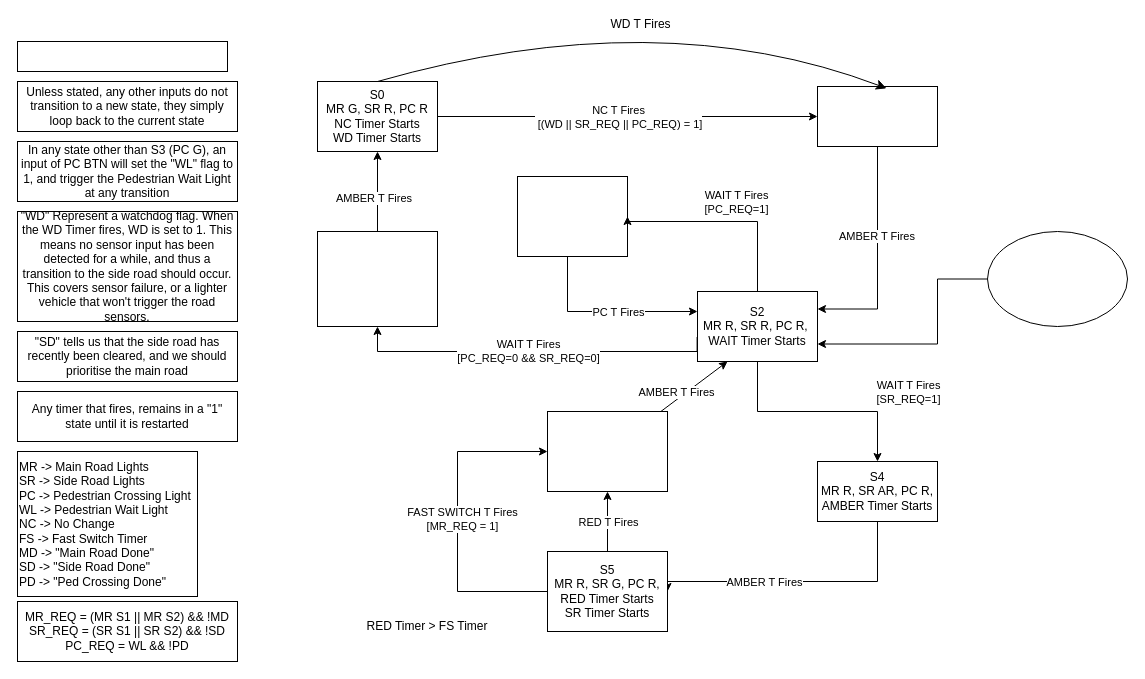
Some shapes in this 1145 by 679 pixel diagram are drawn without their labels. The shapes that lost their labels are listed below. From the top down, each one's centre as x and y in pixels, then its label:
the point at 122,56: Syntax: event [guard/check] / action
the point at 877,116: S1 MR A, SR, R, PC R, AMBER Timer Starts WD Timer Stopped
the point at 572,216: S3 MR R, SR R, PC G WL set to 0 PD set to 1 PC Timer Starts
the point at 377,278: S7 MR AR, SR, R, PC R, AMBER Timer Starts WD set to 0 SD set to 0 PD set to 0
the point at 1057,278: System Start WD = 0 WL = 0 PD = 0 SD = 0
the point at 607,451: S6 MR R, SR A, PC R, AMBER Timer Starts SD set to 1 SG Timer Stopped
